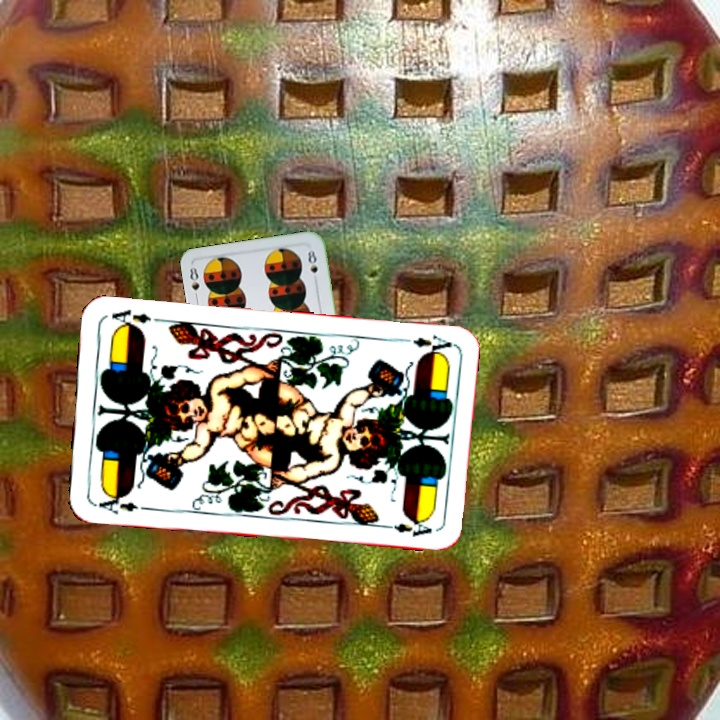EA: (90, 489, 149, 517), (409, 331, 454, 357)
S8: (186, 263, 203, 304)
